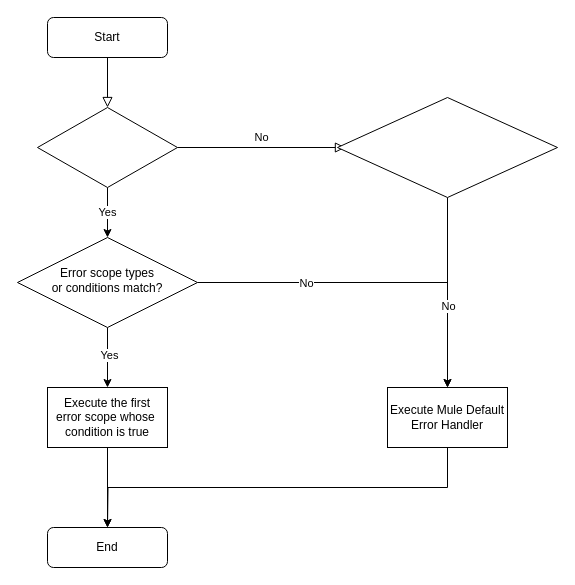
The diagram is 575 pixels wide and 585 high, and some of its shapes have lost their labels. Each missing label, with the box of its shape:
App has default error handler(globalErrorHandler)?: (336, 96, 558, 198)
Flow has error handler?: (36, 106, 178, 188)
